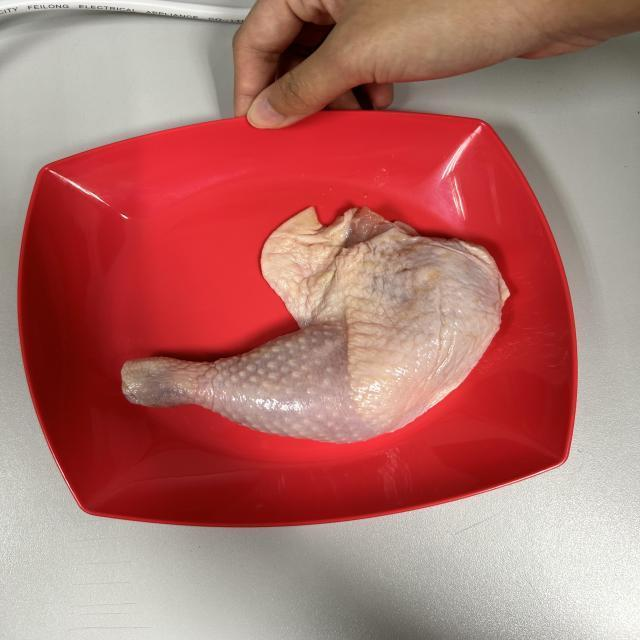quater: (113, 192, 504, 448)
